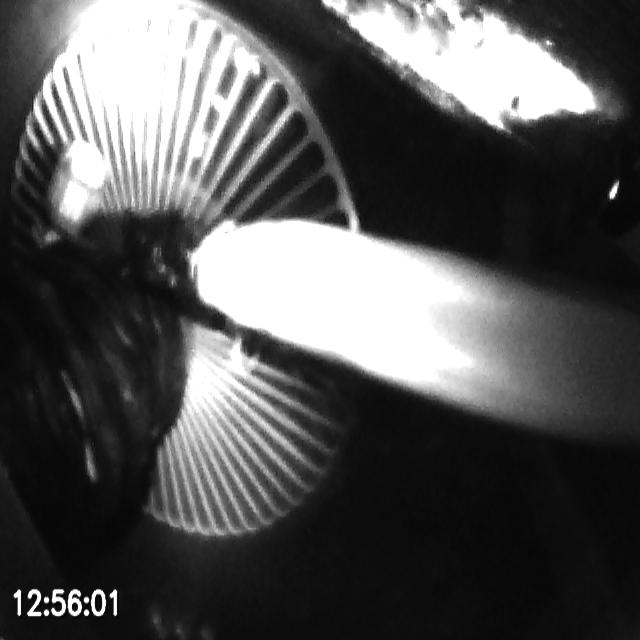head: (38, 139, 106, 249)
